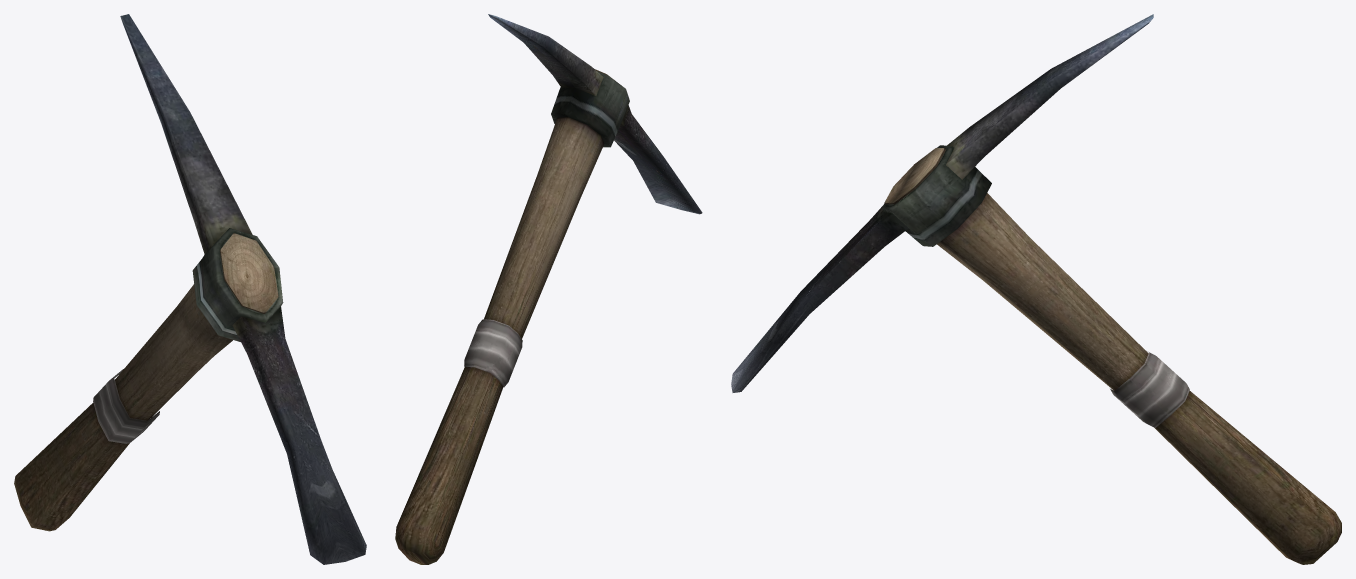
File: pickaxe.worldmodel.glb
The picture shows the model from 3 angles, left to right: view 1: azimuth 30°, elevation 25°; view 2: azimuth 150°, elevation 25°; view 3: azimuth 270°, elevation 25°; orthographic projection. The views are drawn at different scales.
Parts seen in each view (by area): view 1: w_pickaxe_LOD0; view 2: w_pickaxe_LOD0; view 3: w_pickaxe_LOD0.
Boxes of the visible parts, x1,y1,x2,y2 form: w_pickaxe_LOD0: (14,14,366,564); w_pickaxe_LOD0: (395,14,702,564); w_pickaxe_LOD0: (731,14,1341,564).
Size of the model in its own units: 0.0496 by 0.4314 by 0.4365.
Materials: 1 (1 with a texture image).
